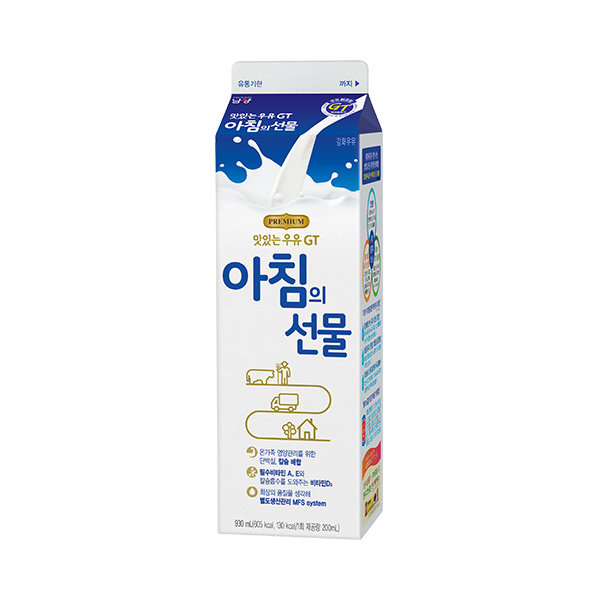milk: (214, 59, 385, 536)
